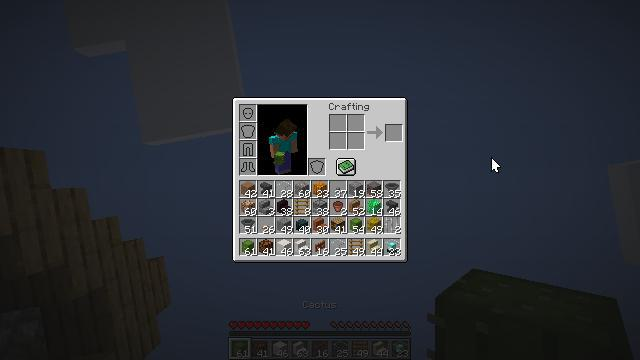cursor: (491, 157, 501, 173)
